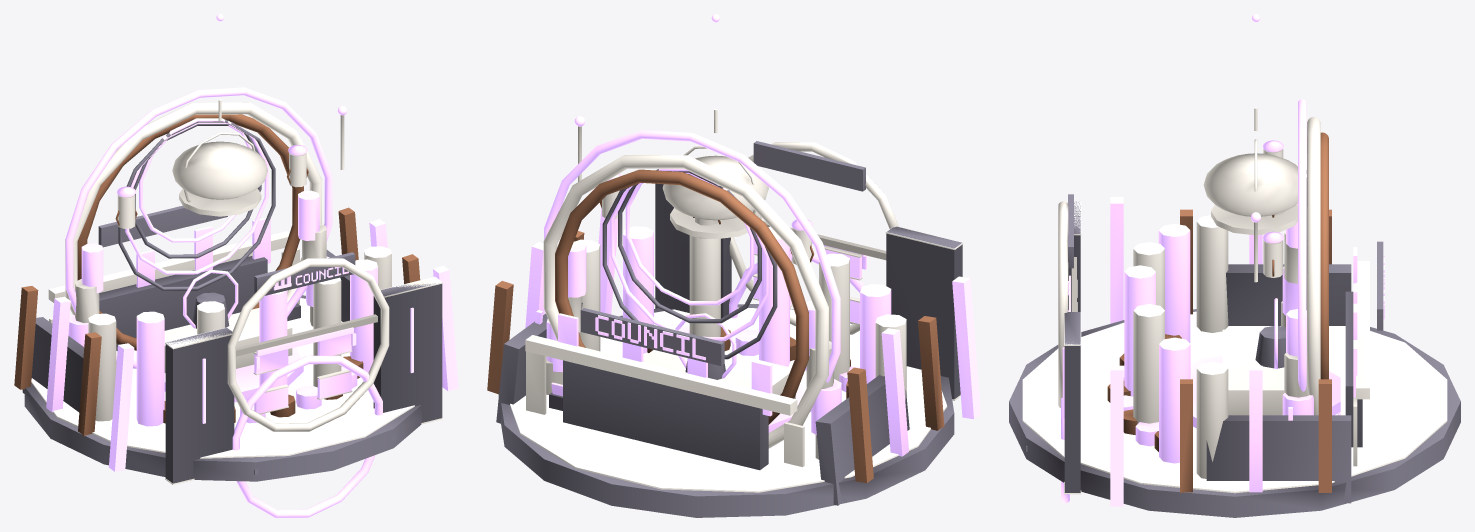
File: council.glb
The picture shows the model from 3 angles, left to right: view 1: azimuth 30°, elevation 25°; view 2: azimuth 150°, elevation 25°; view 3: azimuth 270°, elevation 25°; orthographic projection. The views are drawn at different scales.
Visible parts, largest first — view 1: council:near:surface:0, council:near:surface:2, council:near:surface:1, council:far:surface:0, council:near:surface:3, council:city-identity:assembly-halo; view 2: council:near:surface:0, council:near:surface:2, council:near:surface:1, council:far:surface:0, council:city-identity:assembly-halo, council:near:surface:3; view 3: council:near:surface:0, council:near:surface:1, council:far:surface:0, council:near:surface:2, council:near:surface:3, council:city-identity:assembly-halo.
Part boxes in pixels (left/top/right/bottom): council:near:surface:0: left=22, top=119, right=442, bottom=483; council:near:surface:2: left=46, top=14, right=458, bottom=517; council:near:surface:1: left=48, top=99, right=442, bottom=484; council:far:surface:0: left=31, top=102, right=414, bottom=458; council:near:surface:3: left=14, top=167, right=420, bottom=436; council:city-identity:assembly-halo: left=77, top=114, right=303, bottom=350; council:near:surface:0: left=496, top=141, right=962, bottom=517; council:near:surface:2: left=525, top=14, right=980, bottom=456; council:near:surface:1: left=525, top=108, right=963, bottom=467; council:far:surface:0: left=510, top=155, right=947, bottom=492; council:city-identity:assembly-halo: left=555, top=169, right=808, bottom=424; council:near:surface:3: left=487, top=200, right=944, bottom=483; council:near:surface:0: left=1009, top=170, right=1460, bottom=517; council:near:surface:1: left=1058, top=107, right=1369, bottom=494; council:far:surface:0: left=1022, top=117, right=1447, bottom=493; council:near:surface:2: left=1061, top=14, right=1384, bottom=506; council:near:surface:3: left=1107, top=209, right=1331, bottom=492; council:city-identity:assembly-halo: left=1320, top=132, right=1328, bottom=379.
Bounding box in the file's own units: 16.4 × 19.22 × 16.4.
